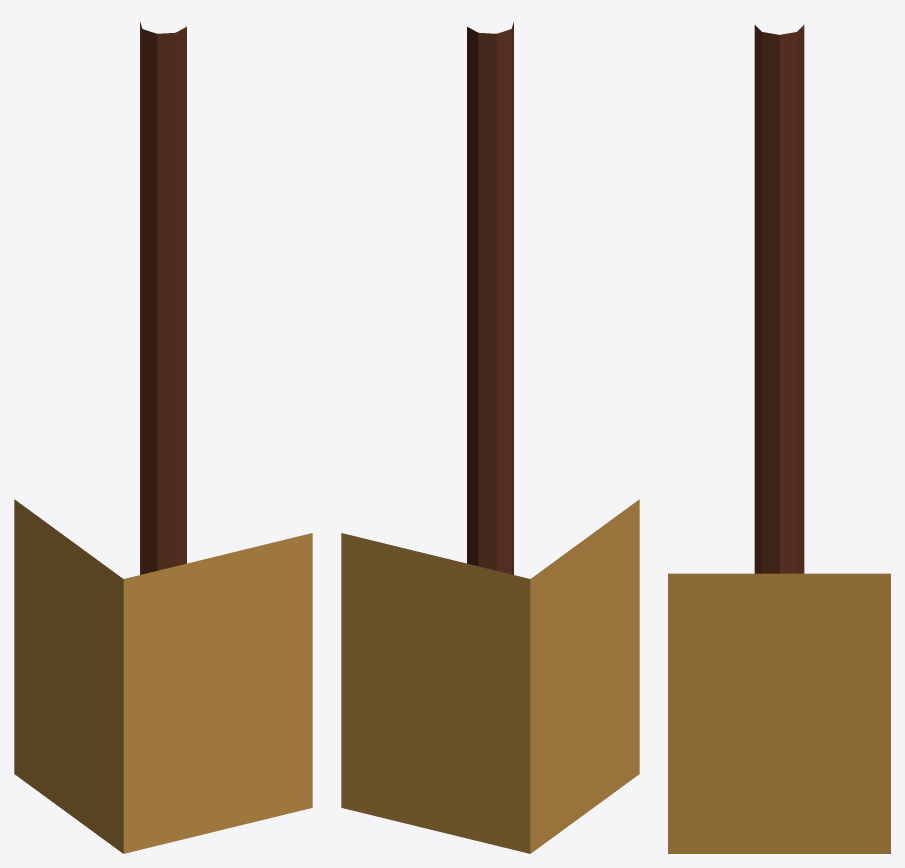
The model's file is bristleback.glb.
3 renders of one model, left to right at view 1: azimuth 30°, elevation 25°; view 2: azimuth 150°, elevation 25°; view 3: azimuth 270°, elevation 25°, orthographic. The views are drawn at different scales.
Parts seen in each view (by area): view 1: bristleback-head, bristleback-handle; view 2: bristleback-head, bristleback-handle; view 3: bristleback-head, bristleback-handle.
Part boxes in pixels (x1,y1,x2,y2): bristleback-head: (14, 499, 312, 853); bristleback-handle: (140, 22, 186, 574); bristleback-head: (341, 499, 639, 853); bristleback-handle: (467, 22, 513, 574); bristleback-head: (668, 573, 890, 853); bristleback-handle: (754, 25, 804, 573).
Bounding box in the file's own units: 0.36 × 1.39 × 0.36.
